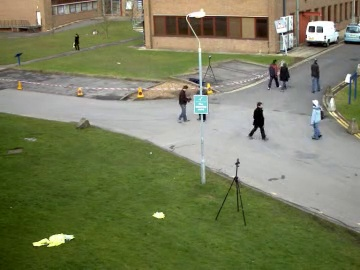person: (177, 84, 192, 122), (177, 85, 192, 122)
